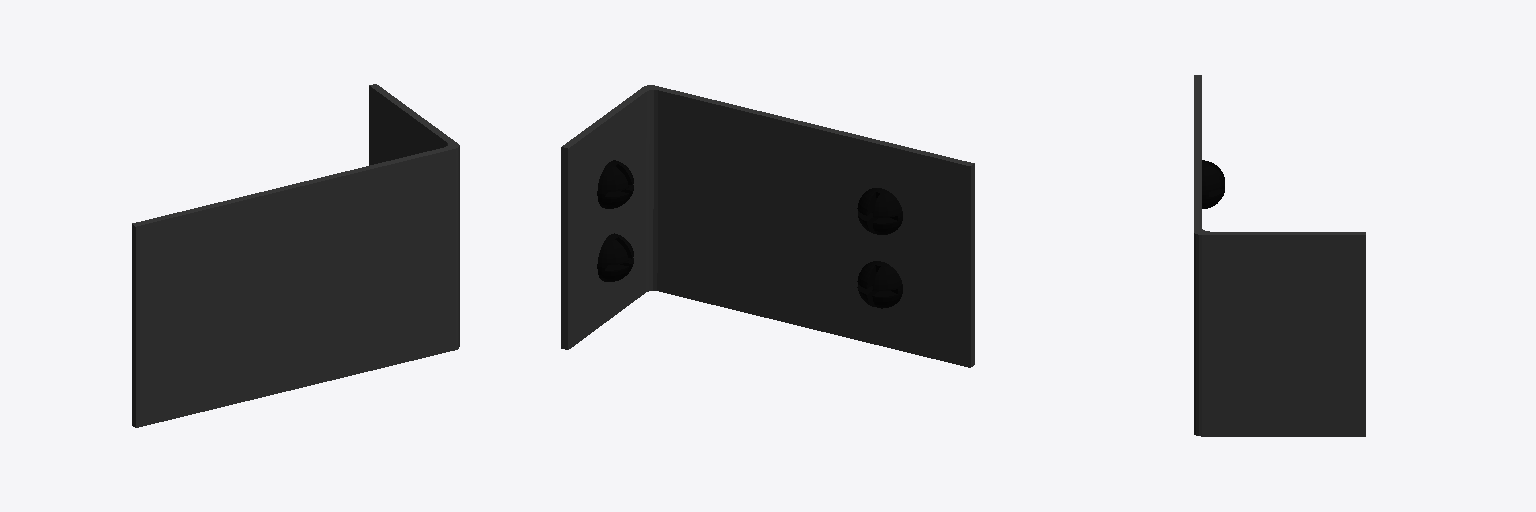
File: uchytka.obj
3 views of the same model, side by side, from view 1: azimuth 30°, elevation 25°; view 2: azimuth 150°, elevation 25°; view 3: azimuth 270°, elevation 25° (orthographic).
Visible parts, largest first — view 1: Plane.006_Plane.004; view 2: Plane.006_Plane.004, Sphere.007, Sphere.008, Sphere.006, Sphere.005; view 3: Plane.006_Plane.004, Sphere.008.
Boxes of the visible parts, box(x1,y1,x2,y2) form: Plane.006_Plane.004: box(132, 84, 459, 427); Plane.006_Plane.004: box(561, 85, 974, 367); Sphere.007: box(857, 261, 902, 308); Sphere.008: box(857, 188, 902, 234); Sphere.006: box(597, 160, 633, 208); Sphere.005: box(597, 233, 633, 281); Plane.006_Plane.004: box(1194, 75, 1365, 436); Sphere.008: box(1202, 160, 1224, 208).
Size of the model in its own units: 0.4583 by 0.27 by 0.2096.